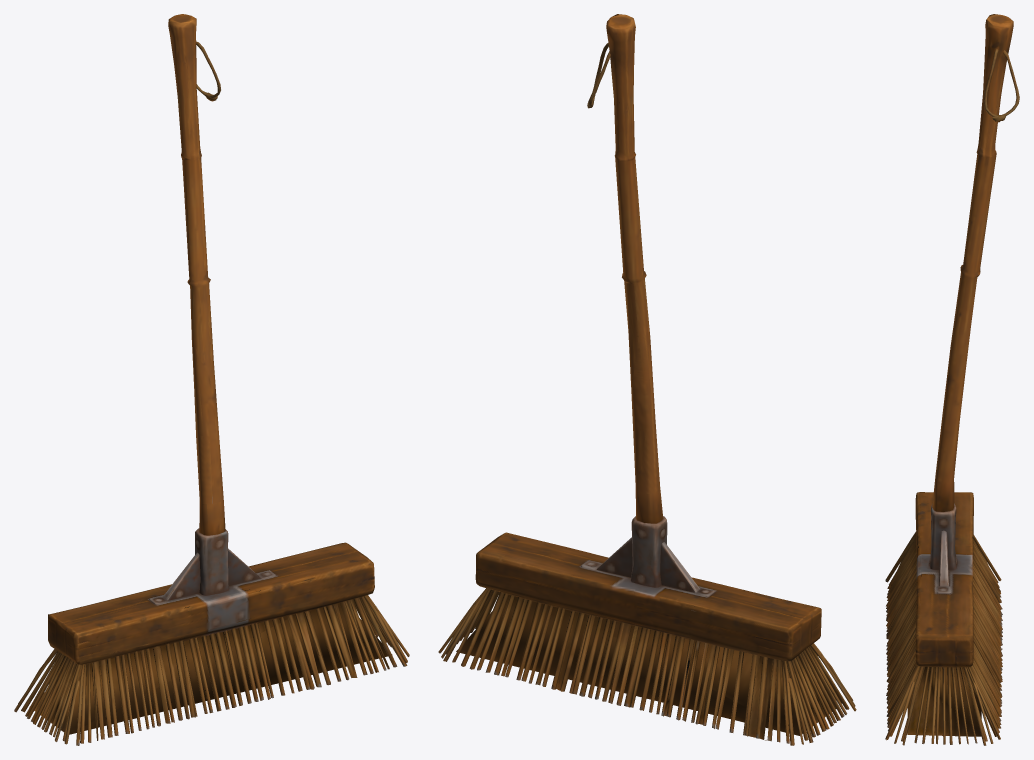
Rendered from broom.glb.
3 renders of one model, left to right at view 1: azimuth 30°, elevation 25°; view 2: azimuth 150°, elevation 25°; view 3: azimuth 270°, elevation 25°, orthographic. The views are drawn at different scales.
Visible parts, largest first — view 1: geometry_0; view 2: geometry_0; view 3: geometry_0.
Boxes of the visible parts, <box> form: geometry_0: <box>14,14,409,745</box>; geometry_0: <box>438,14,856,745</box>; geometry_0: <box>885,14,1019,745</box>.
Bounding box in the file's own units: 0.5697 × 0.998 × 0.1894.
Materials: 1 (1 with a texture image).
